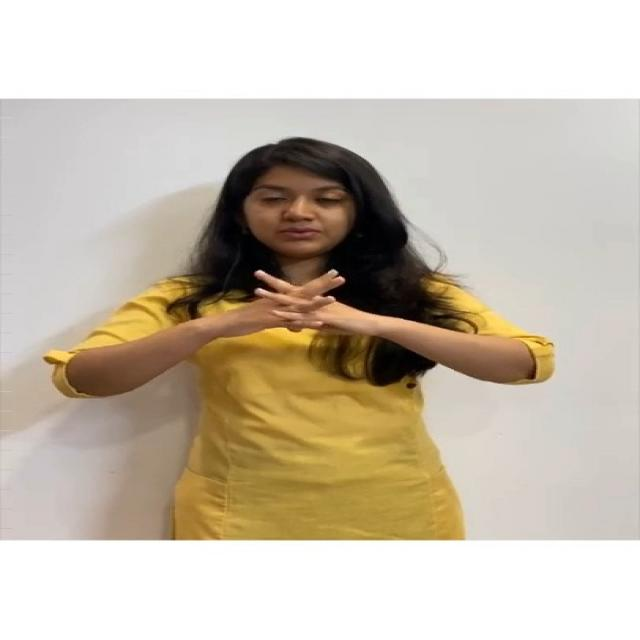W: (238, 266, 356, 334)
